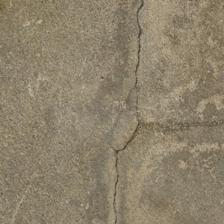Crack: (38, 115, 211, 163), (0, 0, 91, 72)
